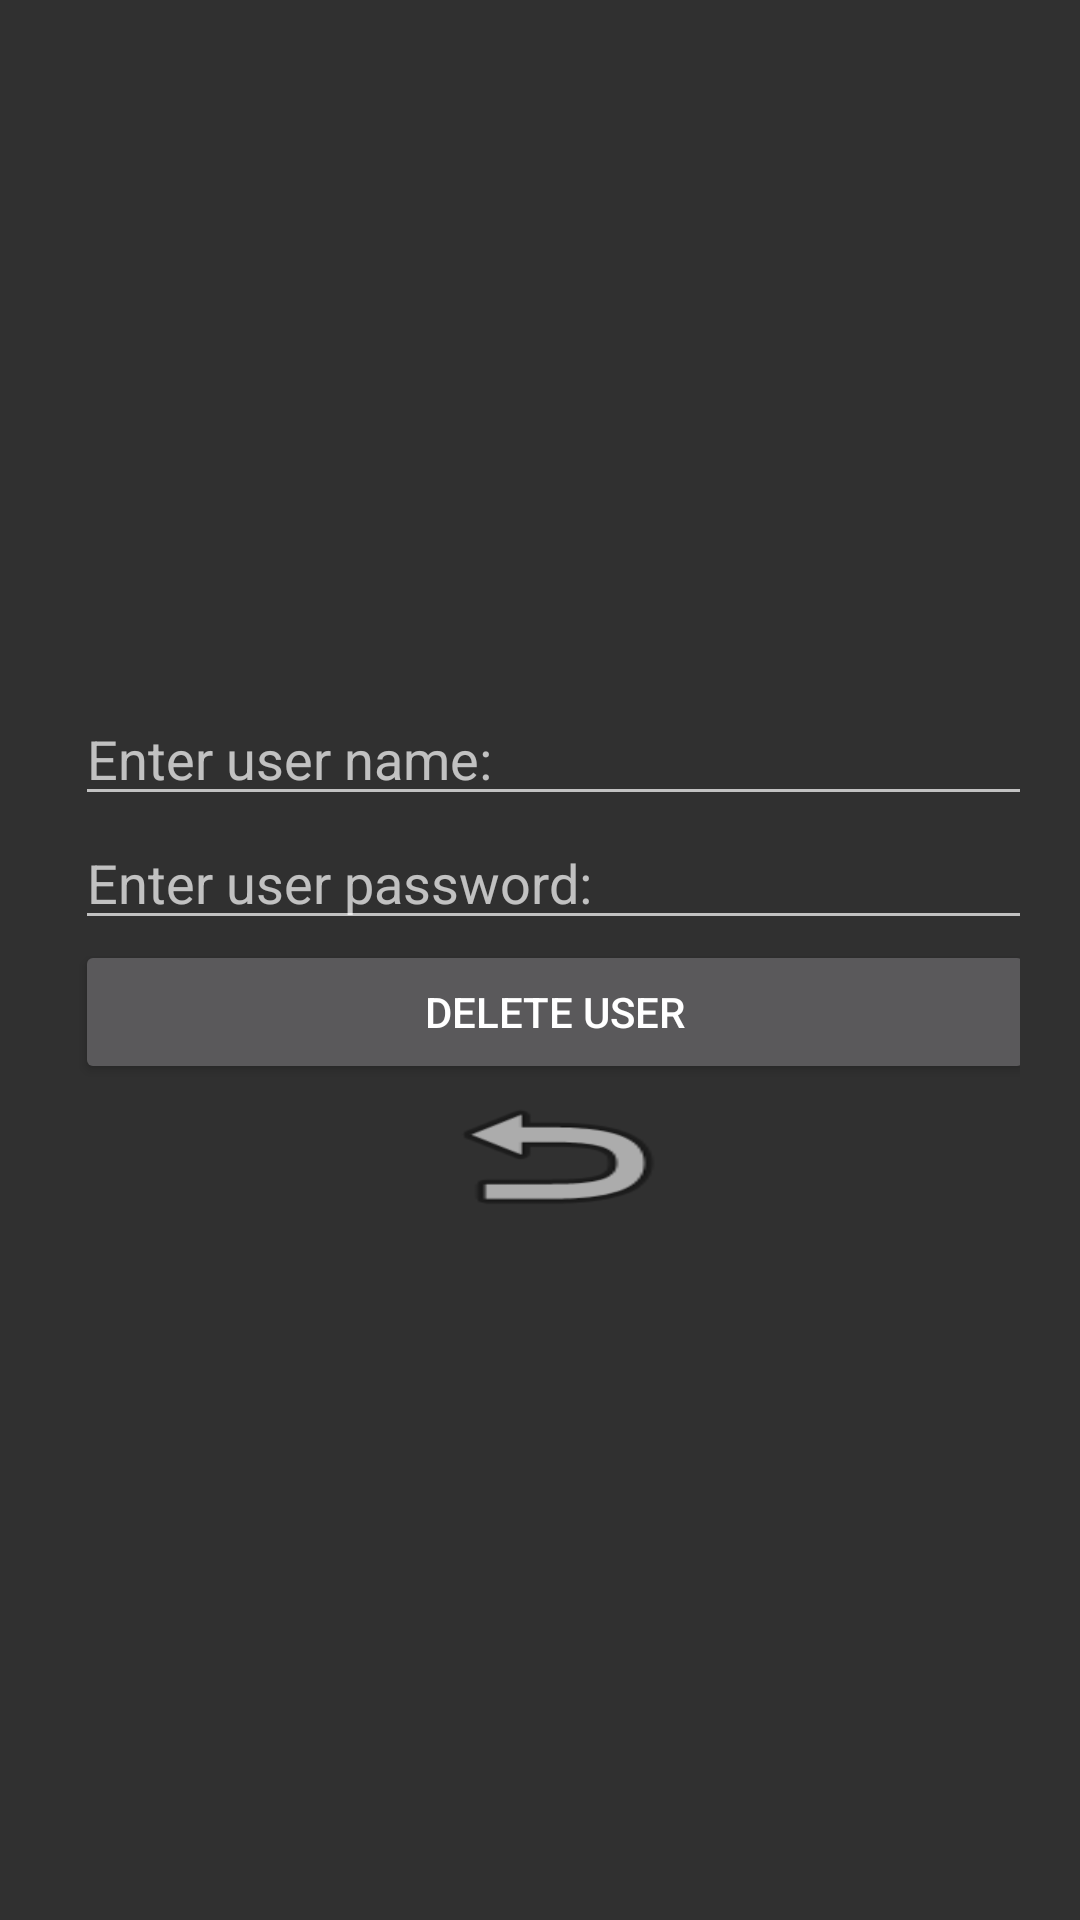

Icon click points for this 1080*1920 phone screenshot, format point (x, y):
revert: point (558, 1157)
